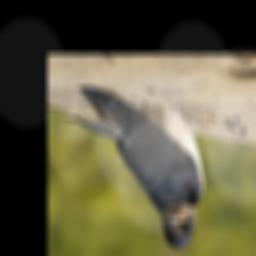Swallow: (62, 87, 205, 250)
